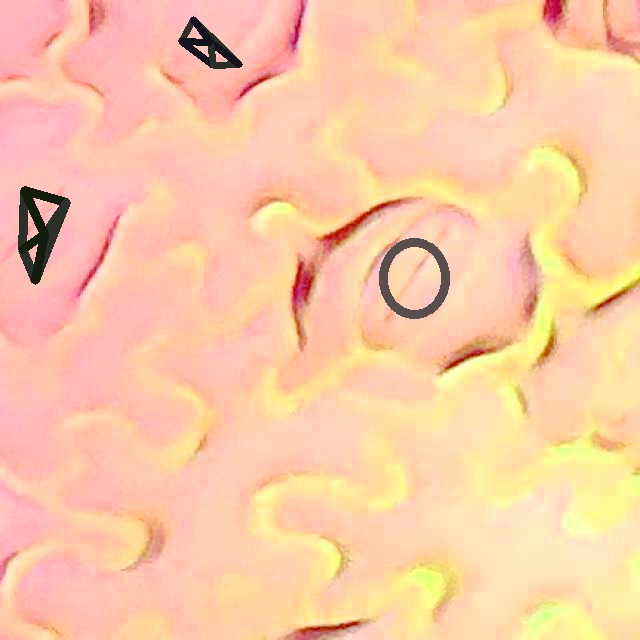close: (379, 237, 449, 319), (18, 186, 69, 283), (178, 16, 242, 68)
